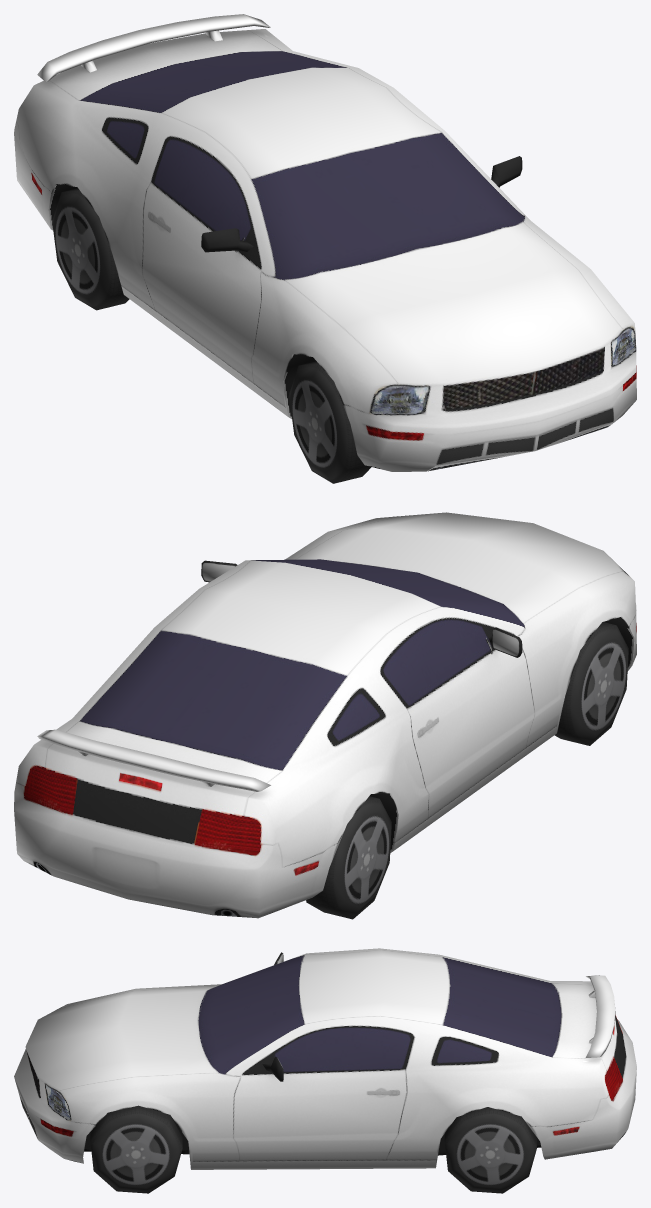
File: car_low-poly.glb
3 views of the same model, one above another, from view 1: azimuth 30°, elevation 25°; view 2: azimuth 150°, elevation 25°; view 3: azimuth 270°, elevation 25° (orthographic). The views are drawn at different scales.
Visible parts, largest first — view 1: Sports_Car_Fin; view 2: Sports_Car_Fin; view 3: Sports_Car_Fin.
Part boxes in pixels (x1,y1,x2,y2): Sports_Car_Fin: [14, 14, 636, 483]; Sports_Car_Fin: [14, 512, 636, 919]; Sports_Car_Fin: [14, 948, 636, 1193].
Size of the model in its own units: 200 by 131 by 450.
Materials: 1 (1 with a texture image).
